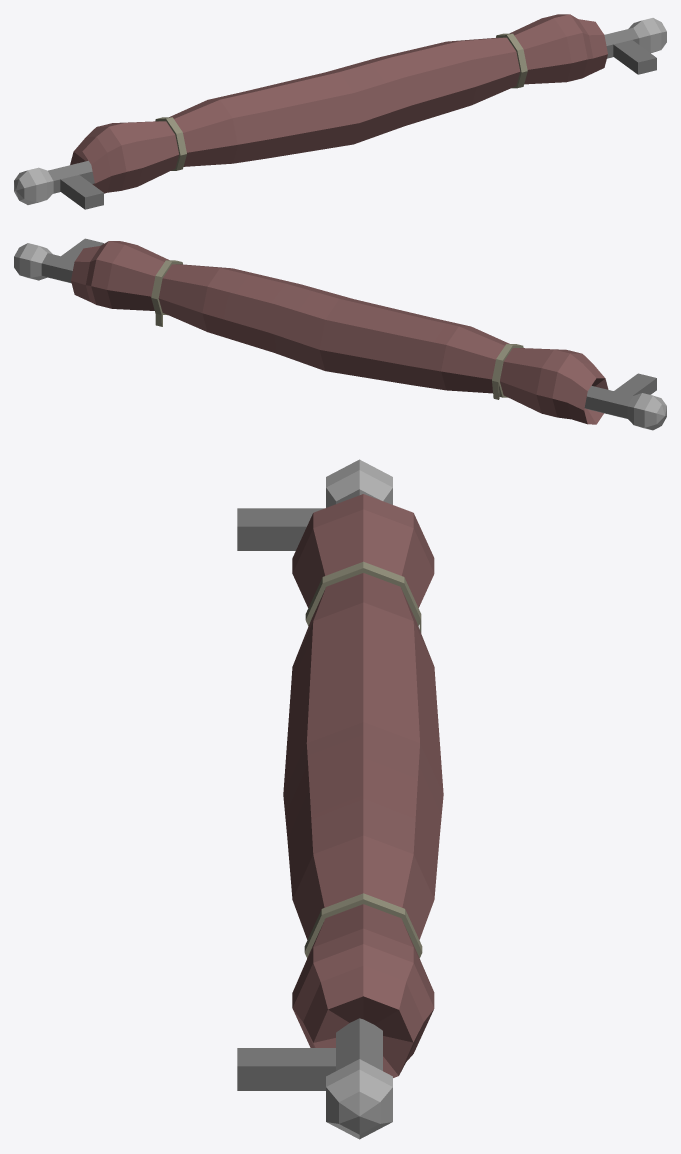
The model's file is Curtain_Folded.fbx.
The picture shows the model from 3 angles, top to bottom: view 1: azimuth 30°, elevation 25°; view 2: azimuth 150°, elevation 25°; view 3: azimuth 270°, elevation 25°; orthographic projection. The views are drawn at different scales.
Parts seen in each view (by area): view 1: Curtain; view 2: Curtain; view 3: Curtain.
Boxes of the visible parts, box(x1,y1,x2,y2) form: Curtain: box(14, 14, 666, 209); Curtain: box(14, 238, 666, 430); Curtain: box(237, 459, 443, 1139).
Size of the model in its own units: 3.17 by 0.3483 by 0.4358.
